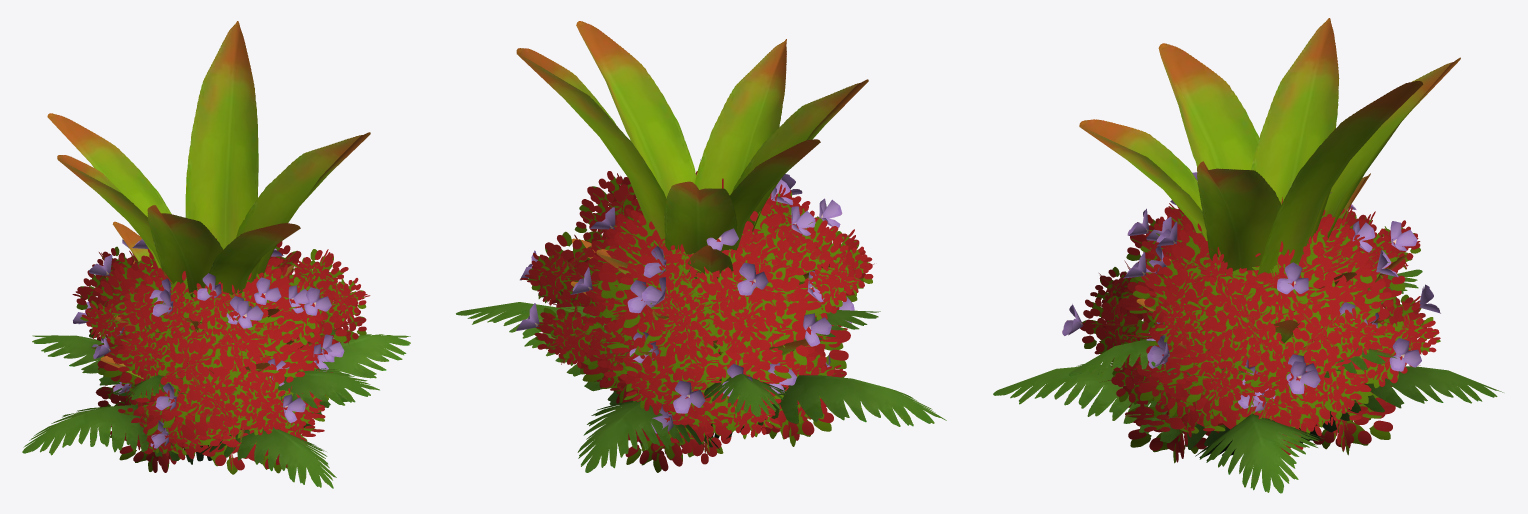
File: megakit-bushes.phone.glb
3 views of the same model, side by side, from view 1: azimuth 30°, elevation 25°; view 2: azimuth 150°, elevation 25°; view 3: azimuth 270°, elevation 25° (orthographic). The views are drawn at different scales.
Parts seen in each view (by area): view 1: Bush_Common, Plant_1_Big, Bush_Common_Flowers, Fern_1; view 2: Bush_Common, Plant_1_Big, Bush_Common_Flowers, Fern_1; view 3: Bush_Common, Plant_1_Big, Bush_Common_Flowers, Fern_1.
Part boxes in pixels (box(x1,y1,x2,y2)): Bush_Common: box(72, 239, 370, 472); Plant_1_Big: box(47, 21, 370, 373); Bush_Common_Flowers: box(73, 239, 366, 474); Fern_1: box(22, 330, 410, 488); Bush_Common: box(520, 171, 874, 471); Plant_1_Big: box(516, 21, 868, 424); Bush_Common_Flowers: box(516, 159, 872, 472); Fern_1: box(456, 302, 946, 472); Bush_Common: box(1080, 197, 1440, 462); Plant_1_Big: box(1079, 18, 1460, 342); Bush_Common_Flowers: box(1062, 172, 1440, 463); Fern_1: box(993, 269, 1503, 493).
Size of the model in its own units: 2.83 by 2.55 by 2.65.
4 materials, 4 textured.
